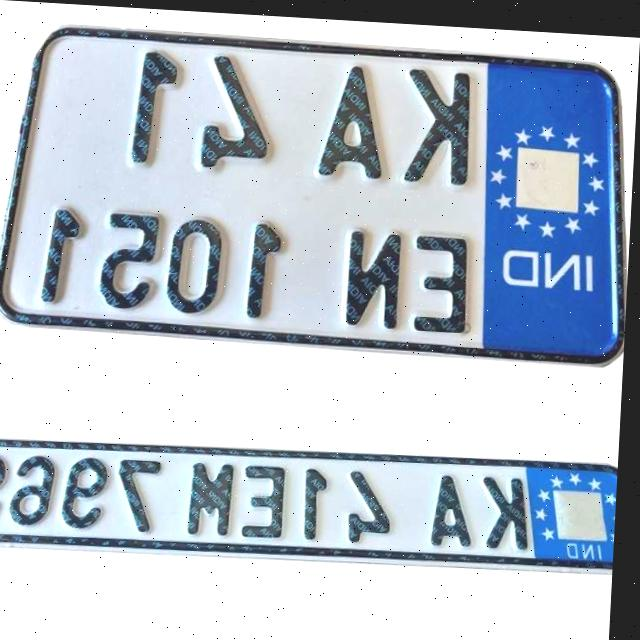plate: (0, 20, 639, 375), (0, 421, 623, 588)
